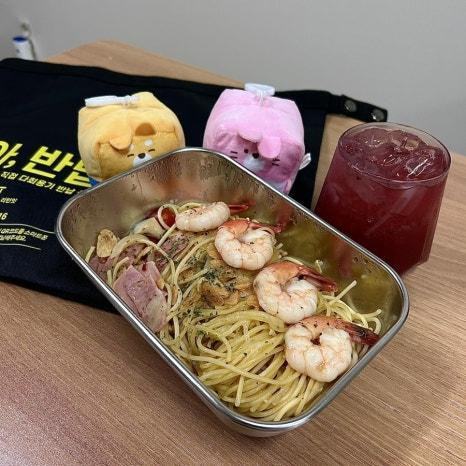Lunch Box: (57, 148, 408, 435)
cup: (314, 123, 450, 272)
